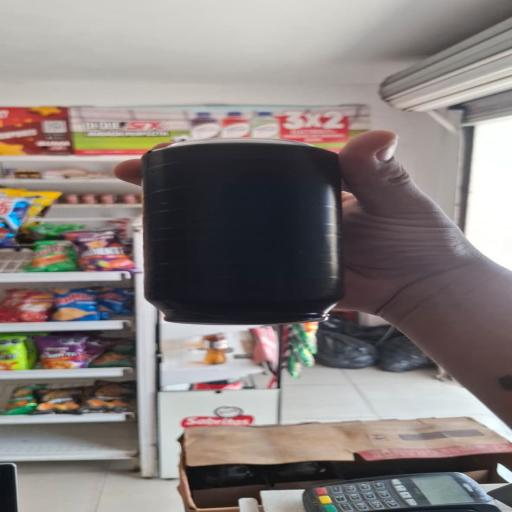LATA: (109, 134, 374, 332)
